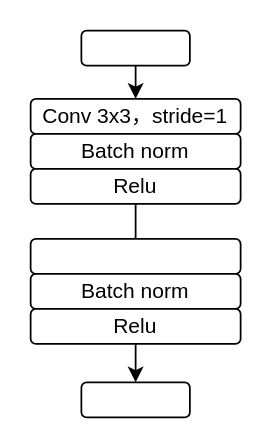
This 271x448 diagram has some shape labels left out. The shapes that lost their labels are listed below. From the top down, each one's centre as x and y in pixels, then its label:
At point 135,47: "input".
At point 135,255: "Conv 3x3，stride=2".
At point 135,399: "output".
